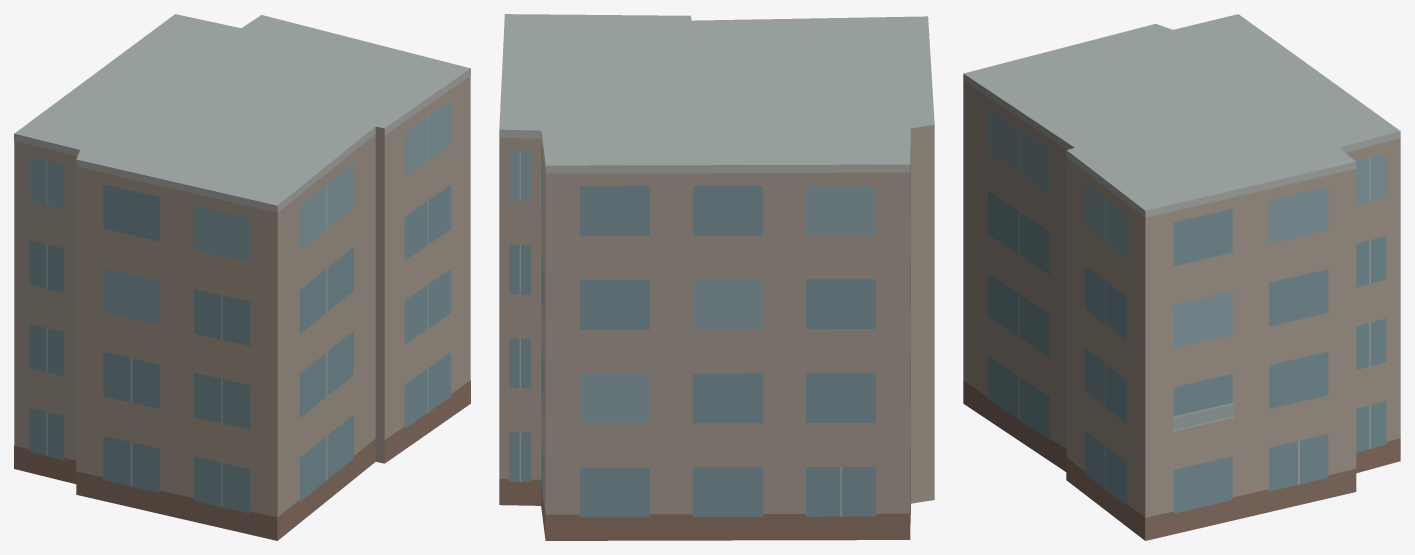
File: survey-upis-32588924.glb
The picture shows the model from 3 angles, left to right: view 1: azimuth 30°, elevation 25°; view 2: azimuth 150°, elevation 25°; view 3: azimuth 270°, elevation 25°; orthographic projection. The views are drawn at different scales.
Parts seen in each view (by area): view 1: survey-upis-32588924.tmp; view 2: survey-upis-32588924.tmp; view 3: survey-upis-32588924.tmp.
Boxes of the visible parts, x1,y1,x2,y2 form: survey-upis-32588924.tmp: (14, 14, 470, 540); survey-upis-32588924.tmp: (499, 14, 934, 540); survey-upis-32588924.tmp: (963, 14, 1400, 540).
Bounding box in the file's own units: 14.58 × 11.4 × 13.69.
